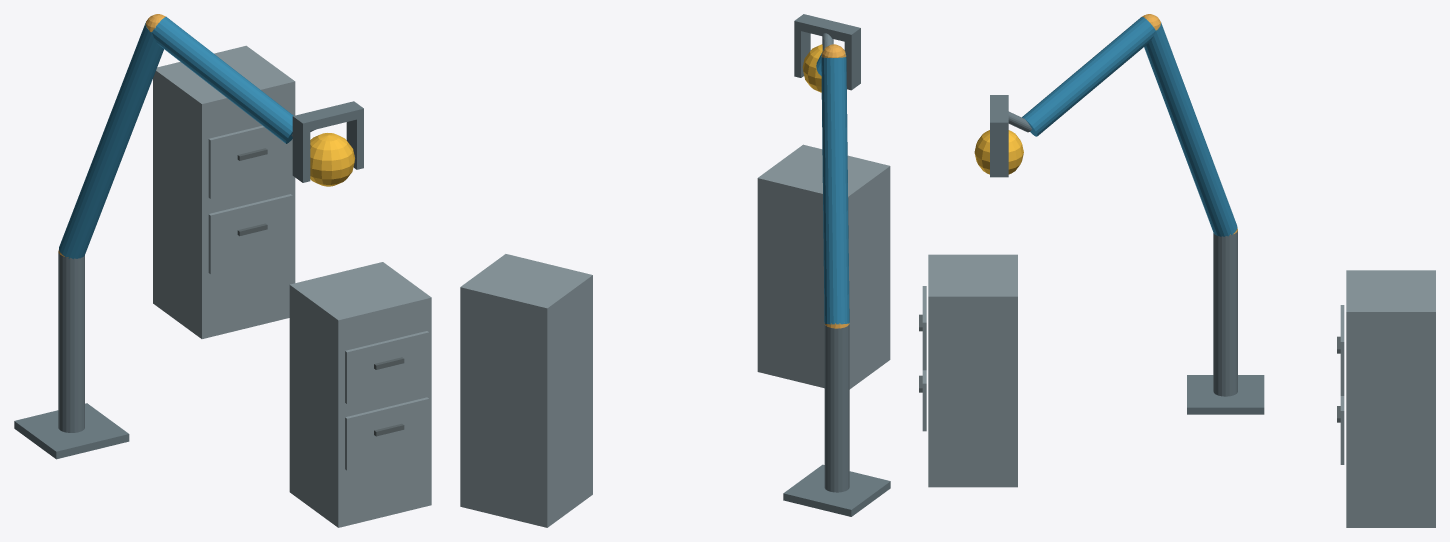
The picture shows the model from 3 angles, left to right: view 1: azimuth 30°, elevation 25°; view 2: azimuth 150°, elevation 25°; view 3: azimuth 270°, elevation 25°; orthographic projection. The views are drawn at different scales.
Visible parts, largest first — view 1: cabinet_1 body, cabinet_2 body, moving link 1, cabinet_2 drawer front, fixed post, moving link 2, cabinet_2 drawer front.001, cabinet_1 drawer front, cabinet_1 drawer front.001, pedestal, ball ball_1, gripper bridge (+2 smaller); view 2: cabinet_2 body, cabinet_1 body, moving link 1, fixed post, pedestal, gripper bridge, gripper finger -1, ball ball_1, gripper finger 1; view 3: cabinet_2 body, cabinet_1 body, moving link 1, fixed post, moving link 2, pedestal, ball ball_1, gripper finger 1, gripper bridge.
Part boxes in pixels (x1,y1,x2,y2): cabinet_1 body: [289, 262, 431, 527]; cabinet_2 body: [153, 45, 295, 338]; moving link 1: [59, 22, 163, 259]; cabinet_2 drawer front: [208, 194, 292, 274]; fixed post: [58, 251, 84, 432]; moving link 2: [152, 16, 293, 143]; cabinet_2 drawer front.001: [208, 125, 292, 198]; cabinet_1 drawer front: [345, 397, 429, 470]; cabinet_1 drawer front.001: [345, 331, 429, 404]; pedestal: [14, 403, 129, 459]; ball ball_1: [310, 133, 354, 186]; gripper bridge: [292, 101, 363, 132]; cabinet_2 body: [460, 254, 592, 527]; cabinet_1 body: [757, 144, 890, 389]; moving link 1: [821, 57, 849, 324]; fixed post: [824, 324, 849, 492]; pedestal: [783, 464, 890, 516]; gripper bridge: [794, 14, 860, 43]; gripper finger -1: [844, 37, 860, 90]; ball ball_1: [802, 44, 822, 92]; gripper finger 1: [794, 29, 810, 77]; cabinet_2 body: [1346, 270, 1435, 527]; cabinet_1 body: [928, 254, 1017, 487]; moving link 1: [1144, 22, 1237, 236]; fixed post: [1213, 231, 1237, 396]; moving link 2: [1022, 17, 1155, 136]; pedestal: [1187, 375, 1264, 414]; ball ball_1: [974, 130, 1023, 174]; gripper finger 1: [990, 131, 1008, 177]; gripper bridge: [990, 95, 1008, 130].
Size of the model in its own units: 1.12 by 1.44 by 1.67.
